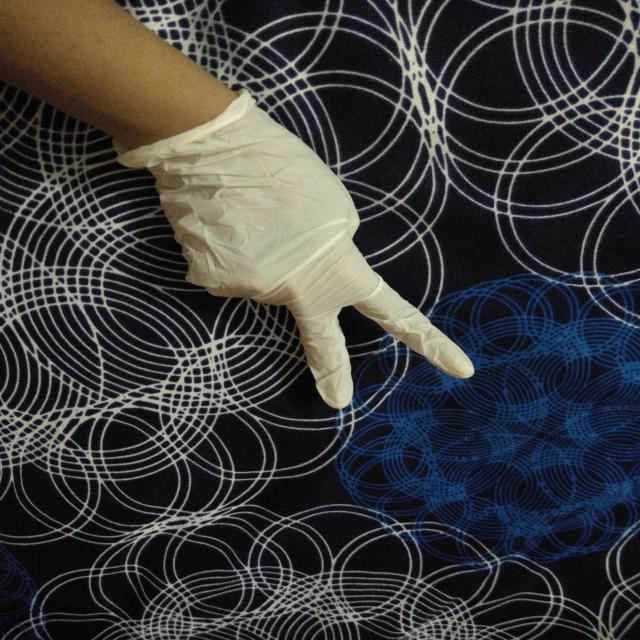gloved_hand: (98, 93, 484, 420)
